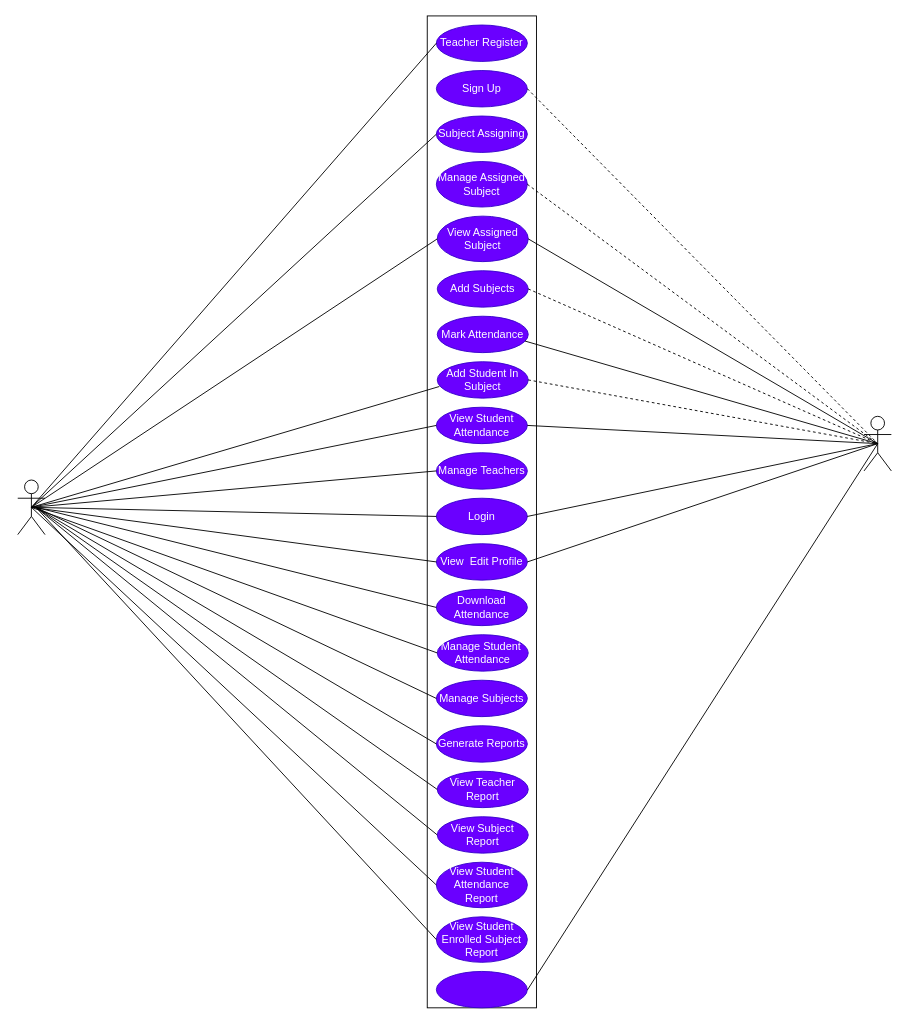
Some shapes in this 913 by 1024 pixel diagram are drawn without their labels. Here are the shapes that lost their labels. From the top down, the box of each, then its label:
(863, 415, 891, 471): Teacher
(17, 479, 45, 535): Admin
(435, 971, 527, 1008): Export Attendance
